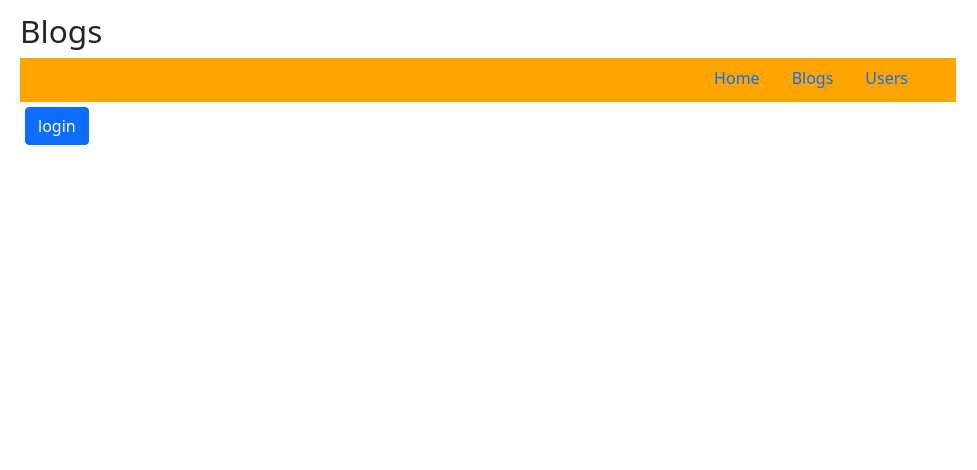
Test: Blog app › Login › fails with wrong credentials
This screenshot has width=977, height=470.
Click the button "login" at (57, 126), box [25, 107, 89, 145]
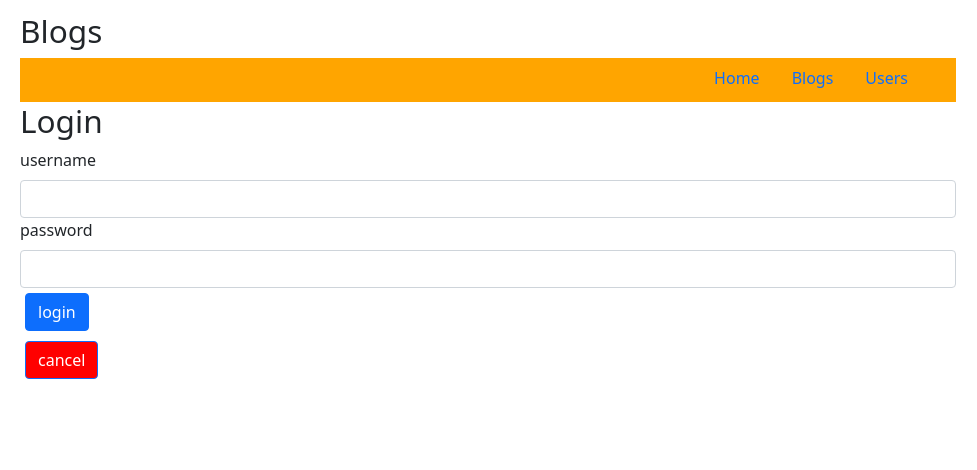
Type "minhnd01" into the field with id "username" at (488, 199), box [20, 180, 956, 218]
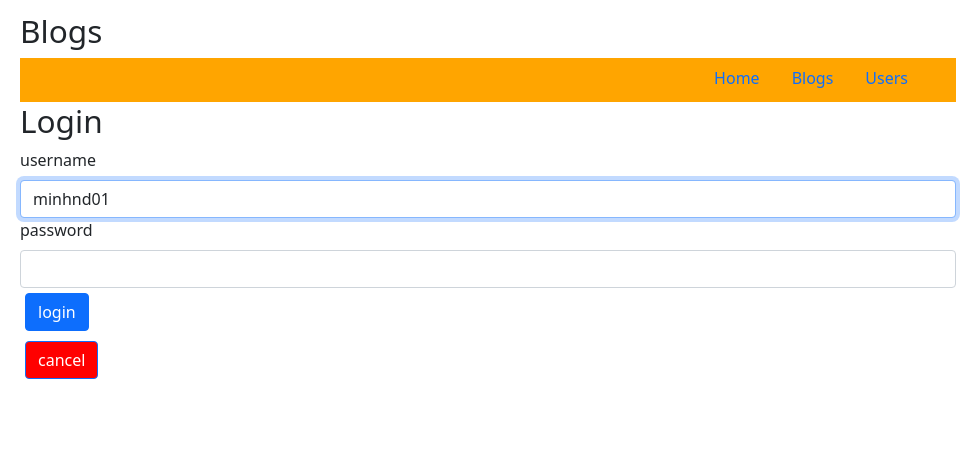
Type "111111" into the password field at (488, 269), box [20, 250, 956, 288]
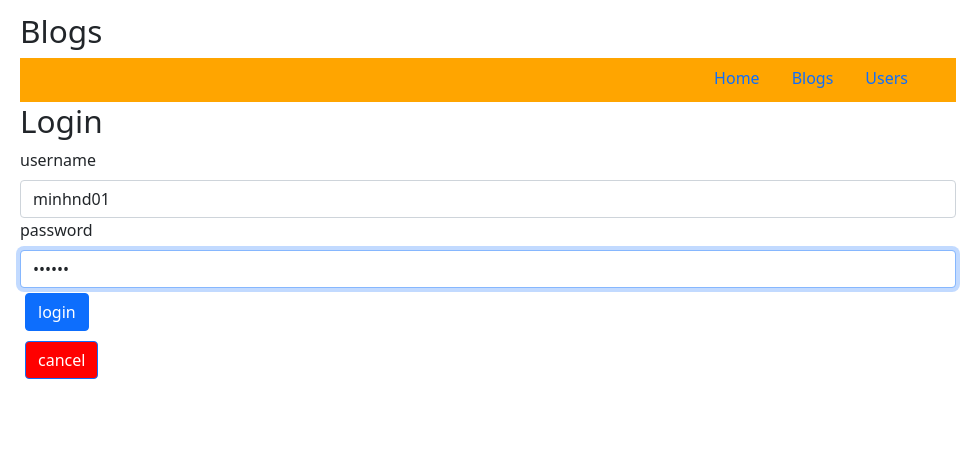
Click the button with id "login-button" at (57, 312), box [25, 293, 89, 331]
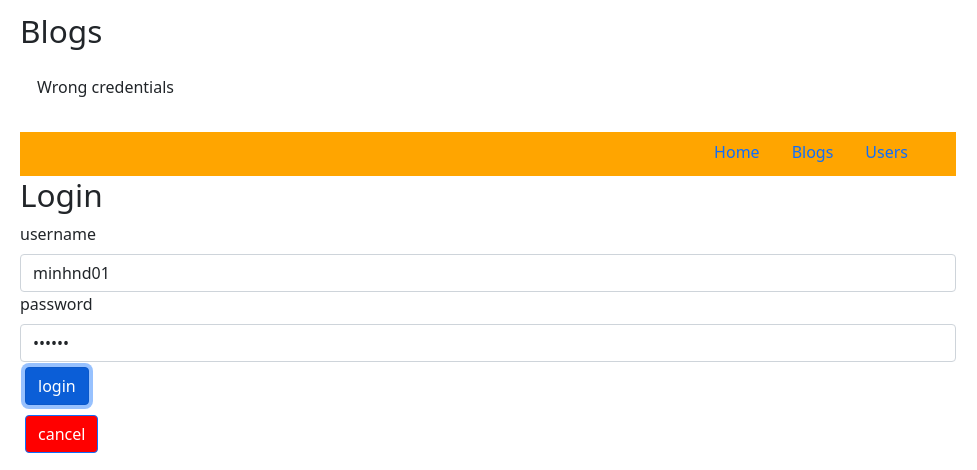
Expected: the message with class "alert-failed" reads "Wrong credentials", [37, 76, 174, 98]
